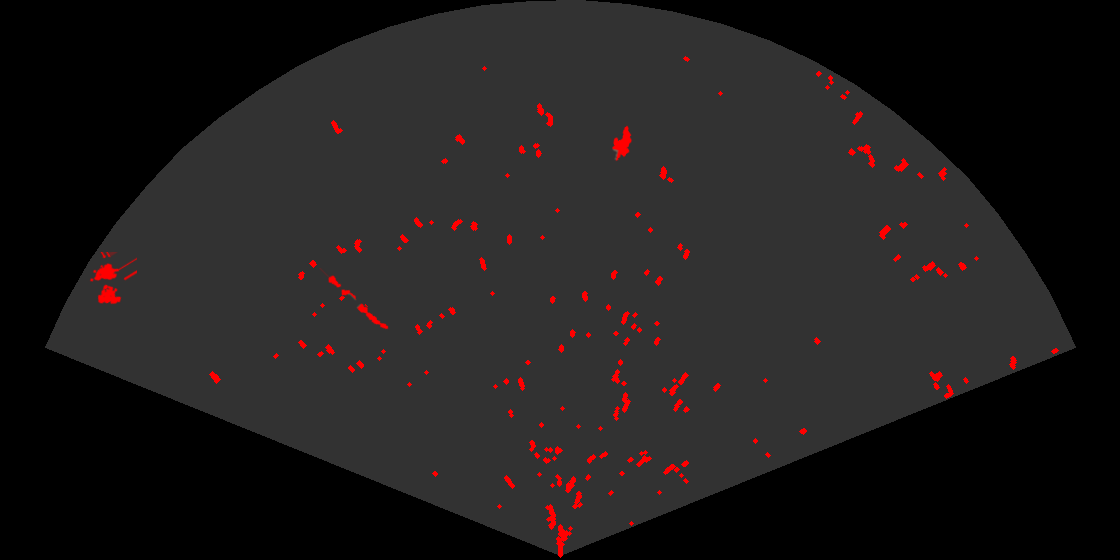AUV: (611, 124, 634, 163)
cage: (88, 252, 137, 306)
chain: (317, 268, 390, 331)
